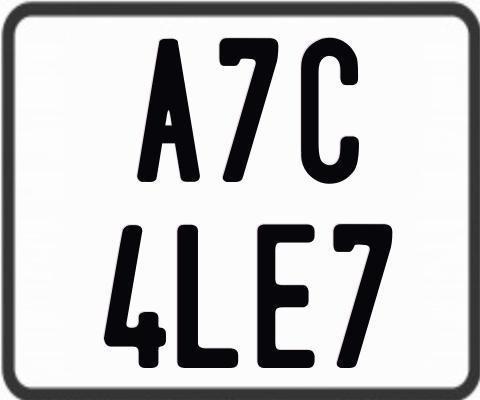4: (101, 222, 163, 366)
7: (216, 38, 281, 185), (333, 221, 394, 369)
A: (135, 38, 199, 185)
C: (299, 37, 363, 184)
E: (257, 224, 319, 374)
L: (176, 225, 239, 372)
